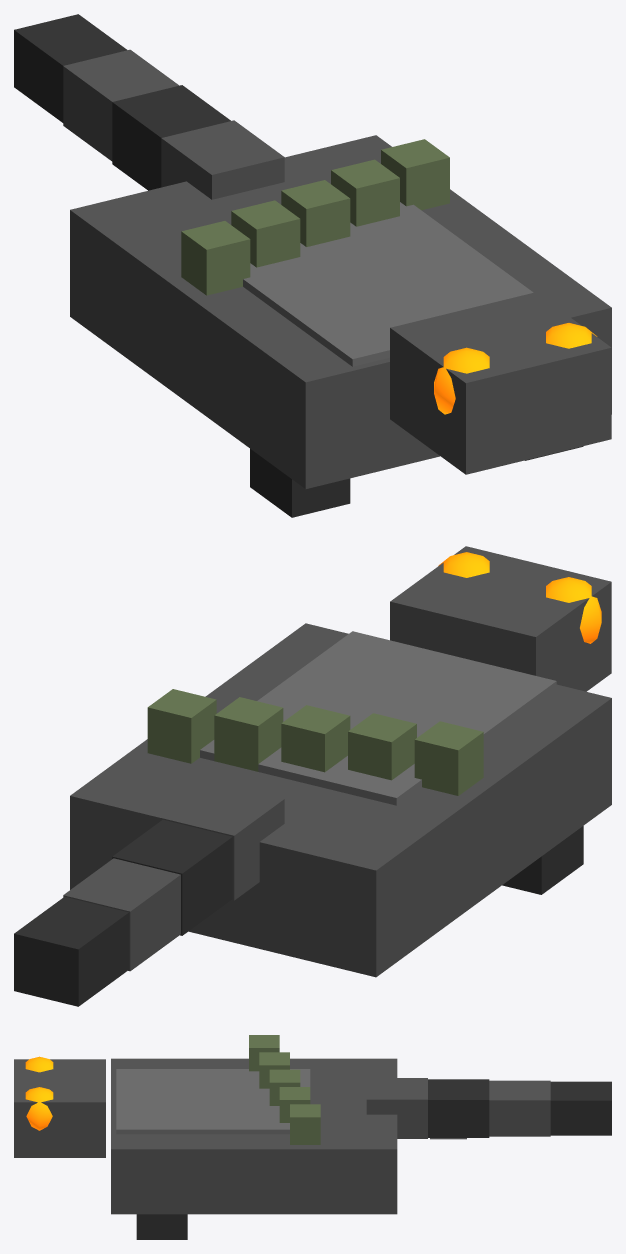
The model's file is SoilBasiliskB.glb.
The picture shows the model from 3 angles, top to bottom: view 1: azimuth 30°, elevation 25°; view 2: azimuth 150°, elevation 25°; view 3: azimuth 270°, elevation 25°; orthographic projection. The views are drawn at different scales.
Parts seen in each view (by area): view 1: SoilBasiliskBody; view 2: SoilBasiliskBody; view 3: SoilBasiliskBody.
Part boxes in pixels (x1=…): SoilBasiliskBody: x1=14, y1=14, x2=611, y2=517; SoilBasiliskBody: x1=14, y1=546, x2=611, y2=1006; SoilBasiliskBody: x1=14, y1=1035, x2=611, y2=1239.
Size of the model in its own units: 0.42 by 0.265 by 1.17.
